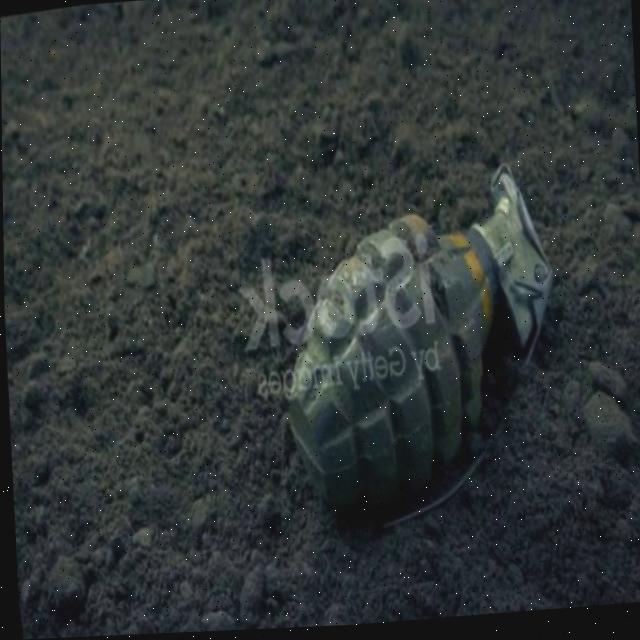grenade: (254, 161, 581, 556)
